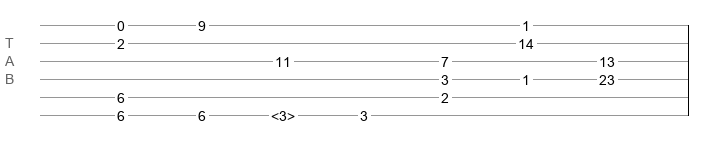0: (117, 18, 125, 28)
1: (522, 72, 530, 82), (522, 18, 530, 28)
11: (275, 54, 291, 64)
13: (599, 54, 615, 64)
14: (518, 36, 534, 46)
2: (117, 36, 125, 46), (441, 90, 449, 100)
23: (599, 72, 615, 82)
3: (360, 108, 368, 118), (441, 72, 449, 82)
6: (117, 108, 125, 118), (117, 90, 125, 100), (198, 108, 206, 118)
7: (441, 54, 449, 64)
9: (198, 18, 206, 28)
harmonic: (271, 108, 295, 118)
